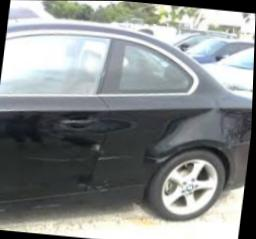Door: (135, 115, 192, 167), (64, 137, 102, 192)
